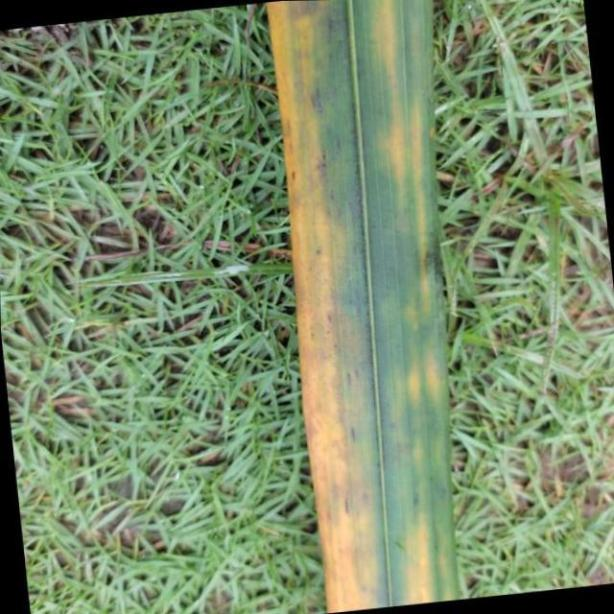Megnesium: (264, 0, 460, 614)
